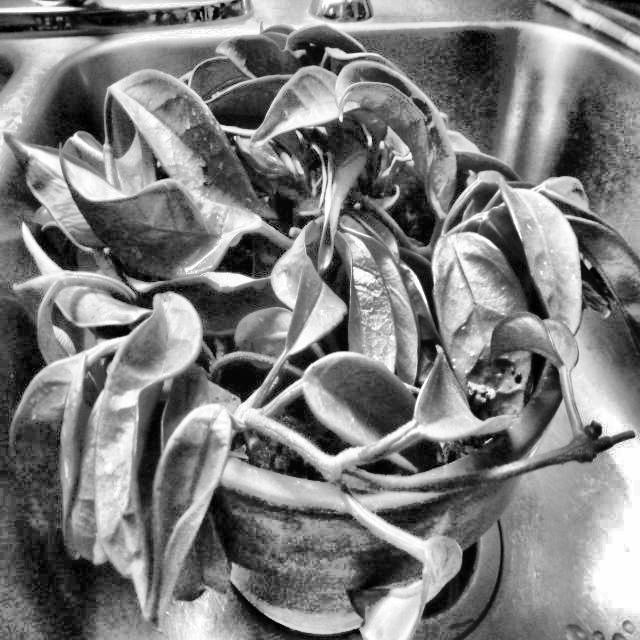plants: (51, 108, 620, 544)
